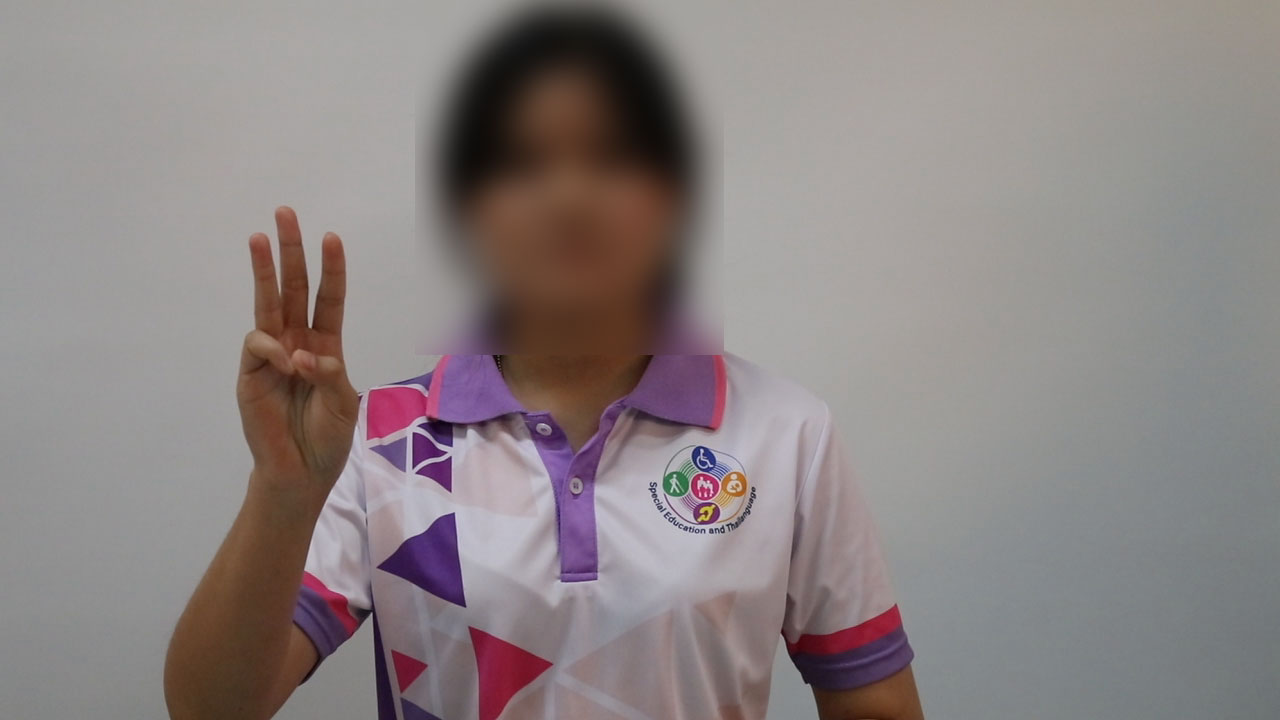wor: (226, 200, 366, 508)
